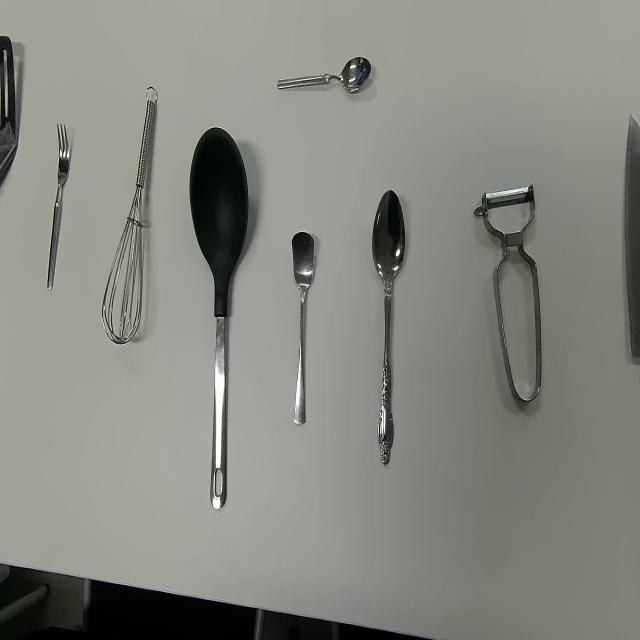Desert-Spoon: (371, 189, 406, 467)
Dinner-Fork: (46, 121, 71, 292)
Kitchen-Knife: (622, 110, 640, 362)
Peeler: (473, 182, 543, 404)
Serving-Spoon: (188, 126, 250, 512), (0, 34, 17, 186)
Tea-Spoon: (291, 230, 315, 427), (276, 53, 372, 94)
Whisk: (100, 84, 158, 346)
